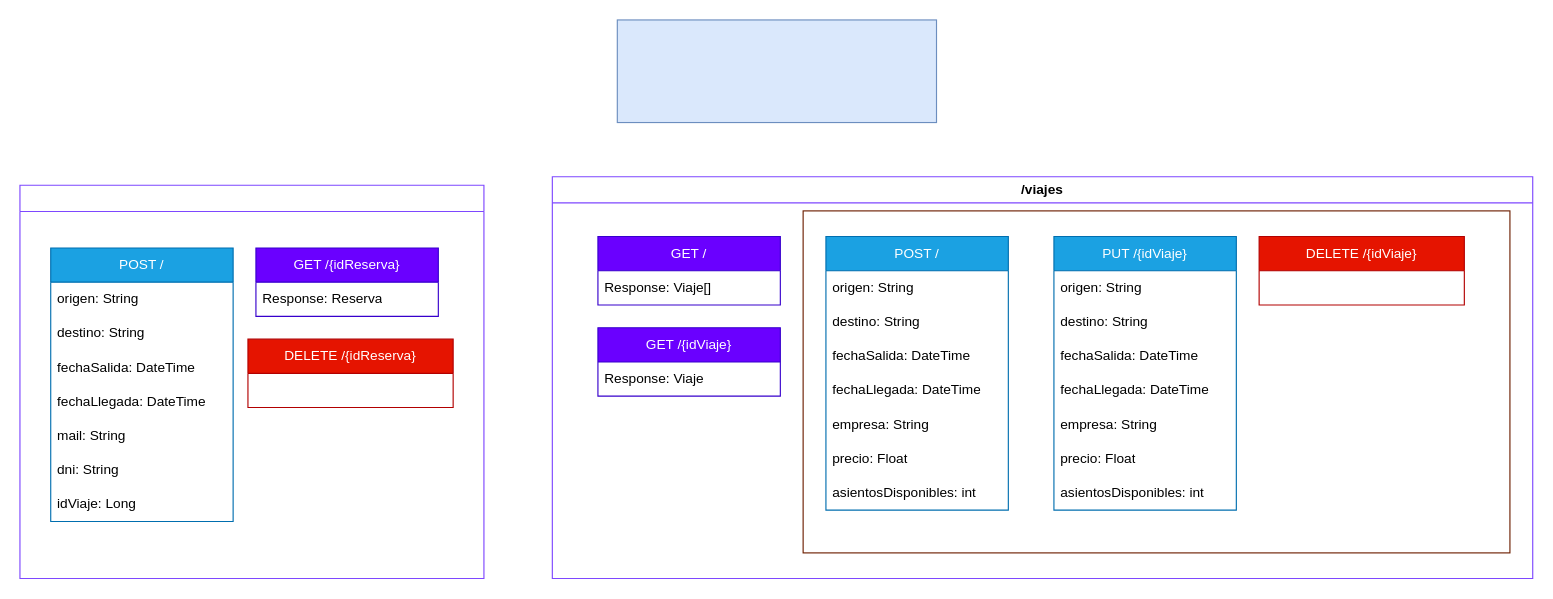
Some shapes in this 1553 by 599 pixel diagram are drawn without their labels. Each missing label, with the centre of its shape:
/reservas: (251,381)
API REST - Travel Hub: (776,71)
